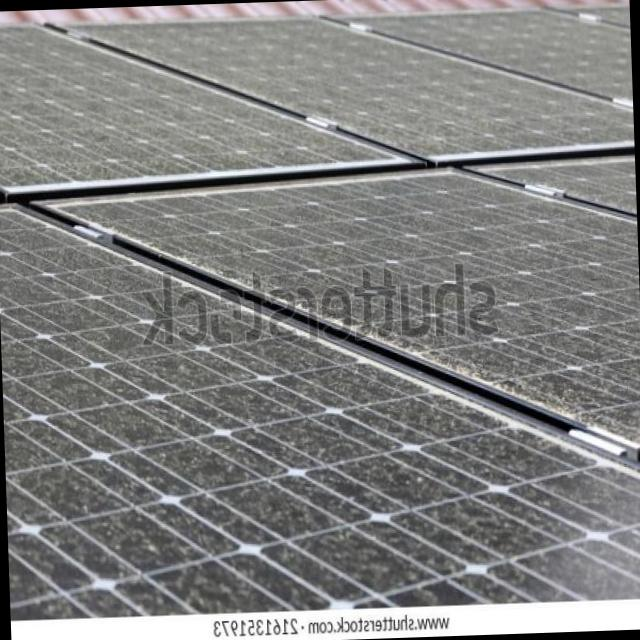faulty: (12, 212, 640, 617), (66, 171, 640, 439), (85, 18, 629, 156), (0, 23, 385, 184), (359, 13, 633, 105), (492, 154, 634, 224)
